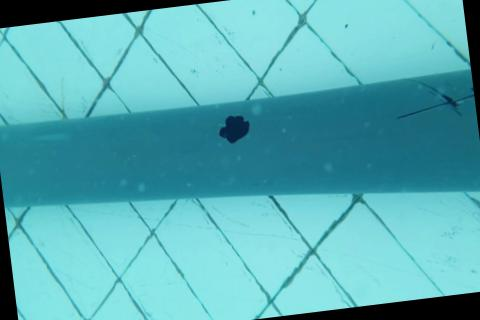kebocoran: (214, 111, 252, 147)
keretakan: (394, 77, 477, 128)
